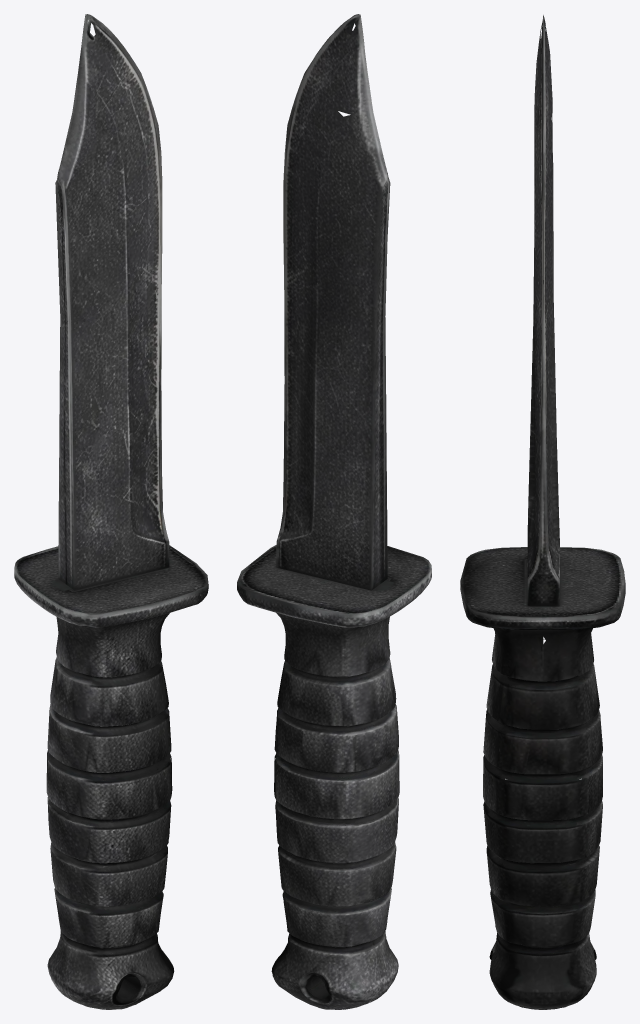
Rendered from knife.glb.
3 views of the same model, side by side, from view 1: azimuth 30°, elevation 25°; view 2: azimuth 150°, elevation 25°; view 3: azimuth 270°, elevation 25° (orthographic).
Visible parts, largest first — view 1: tripo_736ccf80_88fe_4662_834a_8f83968337de; view 2: tripo_736ccf80_88fe_4662_834a_8f83968337de; view 3: tripo_736ccf80_88fe_4662_834a_8f83968337de.
Boxes of the visible parts, <box> form: tripo_736ccf80_88fe_4662_834a_8f83968337de: <box>14,14,208,1009</box>; tripo_736ccf80_88fe_4662_834a_8f83968337de: <box>237,14,431,1009</box>; tripo_736ccf80_88fe_4662_834a_8f83968337de: <box>460,15,625,1009</box>.
Size of the model in its own units: 0.0423 by 0.2699 by 0.0415.
Materials: 1 (1 with a texture image).
